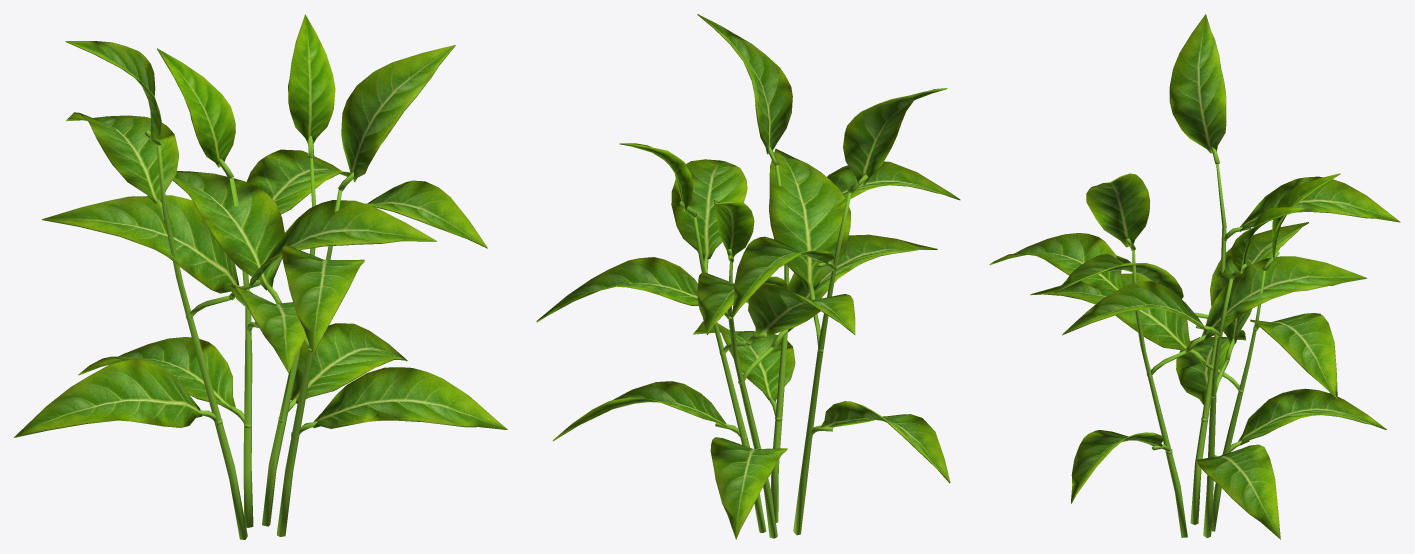
Rendered from NP_WaterSpinach_LeafGrowth_LOD1.fbx.
3 renders of one model, left to right at view 1: azimuth 30°, elevation 25°; view 2: azimuth 150°, elevation 25°; view 3: azimuth 270°, elevation 25°, orthographic. The views are drawn at different scales.
Visible parts, largest first — view 1: NP_WaterSpinach_LeafGrowth; view 2: NP_WaterSpinach_LeafGrowth; view 3: NP_WaterSpinach_LeafGrowth.
Boxes of the visible parts, x1,y1,x2,y2 form: NP_WaterSpinach_LeafGrowth: (14,14,507,539); NP_WaterSpinach_LeafGrowth: (536,14,960,539); NP_WaterSpinach_LeafGrowth: (989,14,1400,539).
Size of the model in its own units: 65.89 by 81.12 by 68.47.
